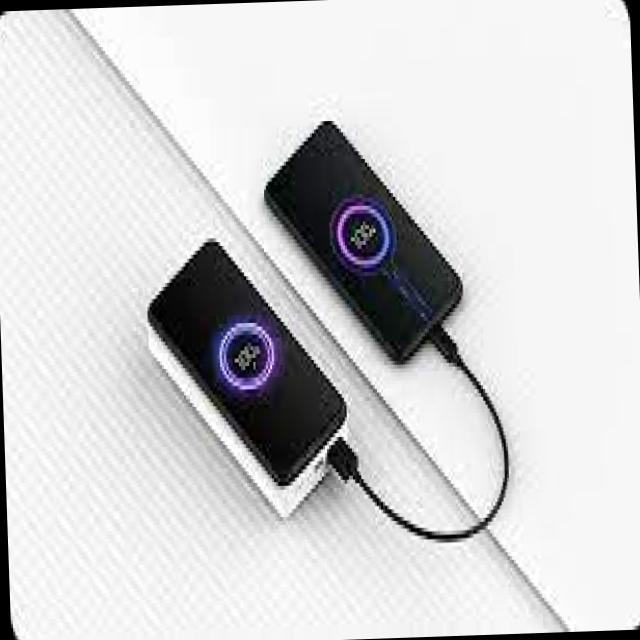portable-charger: (140, 228, 354, 524)
